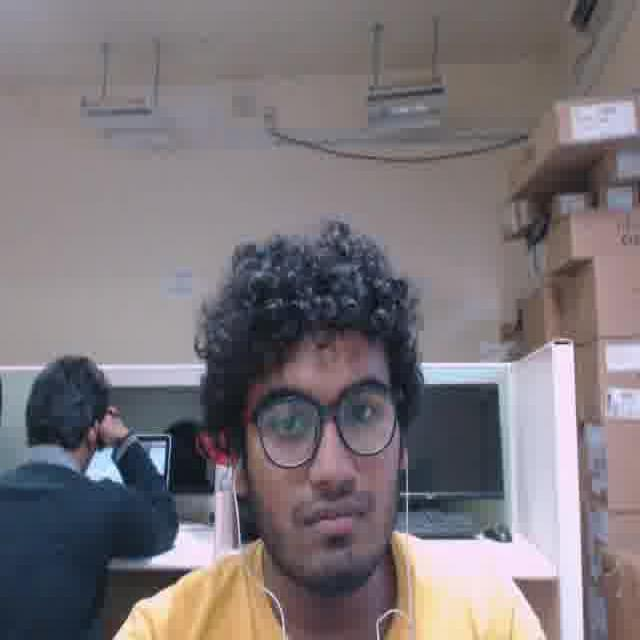Engaged: (246, 317, 399, 580)
